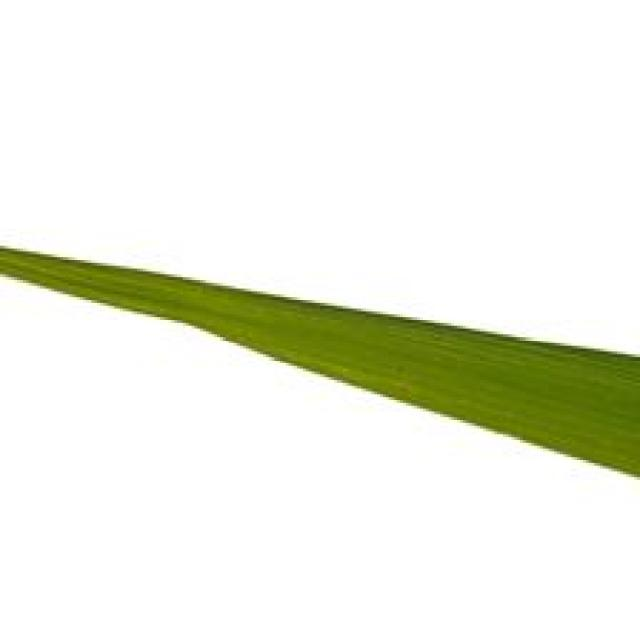Rice___Healthy_Rice_Plant: (1, 246, 637, 481)
